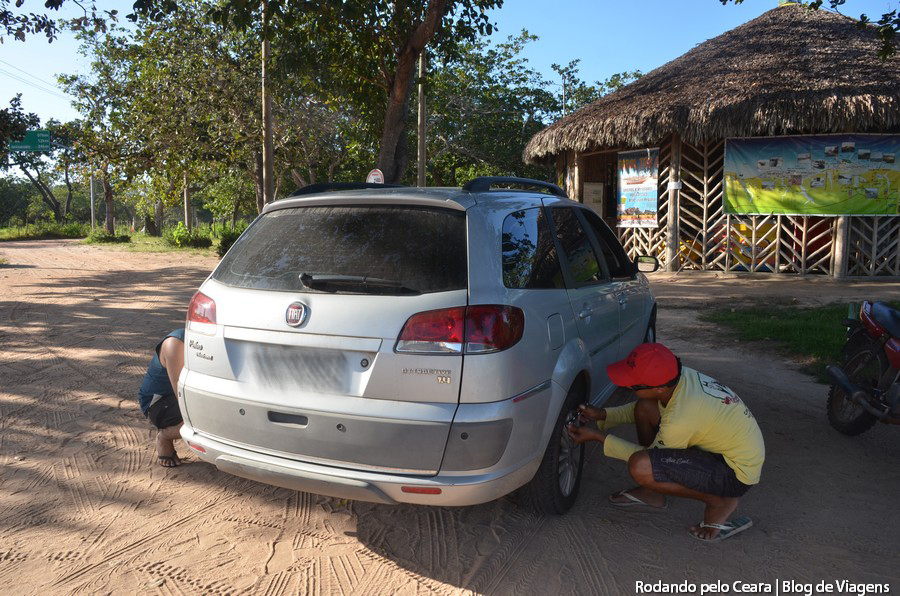Carro: (167, 163, 662, 517)
Moto: (825, 288, 900, 442)
